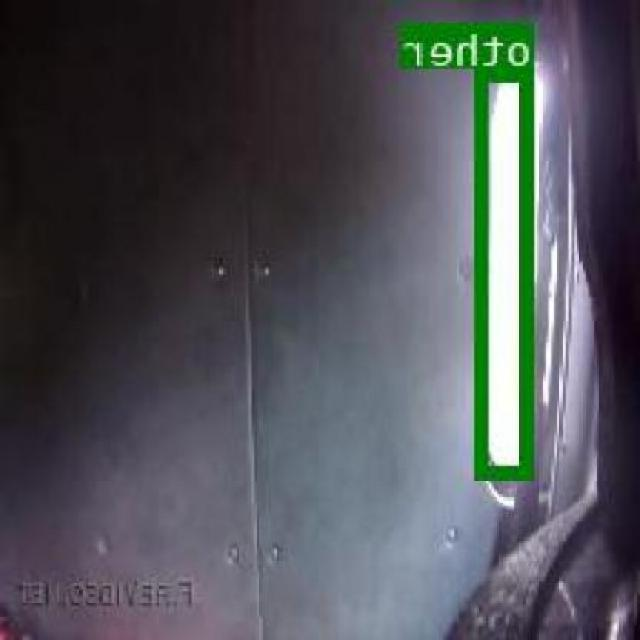other: (480, 66, 537, 477)
